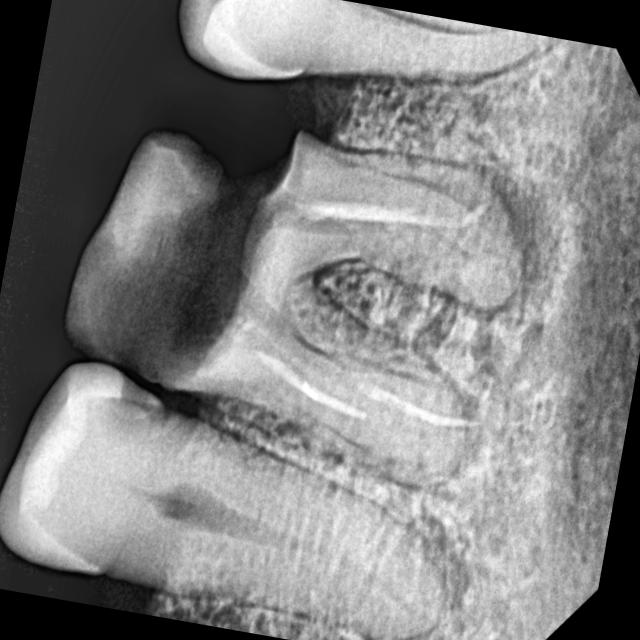Badly Decayed: (42, 73, 575, 528)
Caries: (110, 369, 191, 442)
